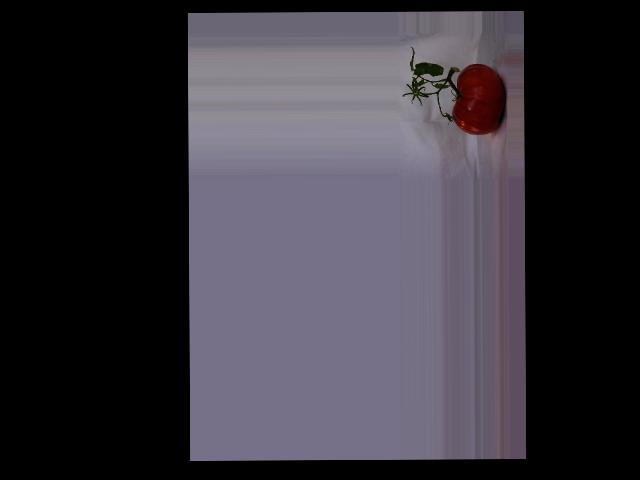tomato: (452, 63, 505, 135)
